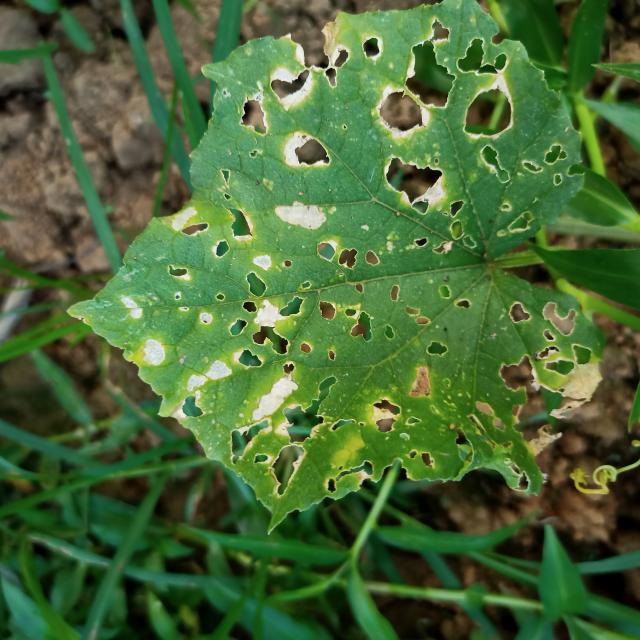disease_cucumber: (136, 37, 596, 468)
